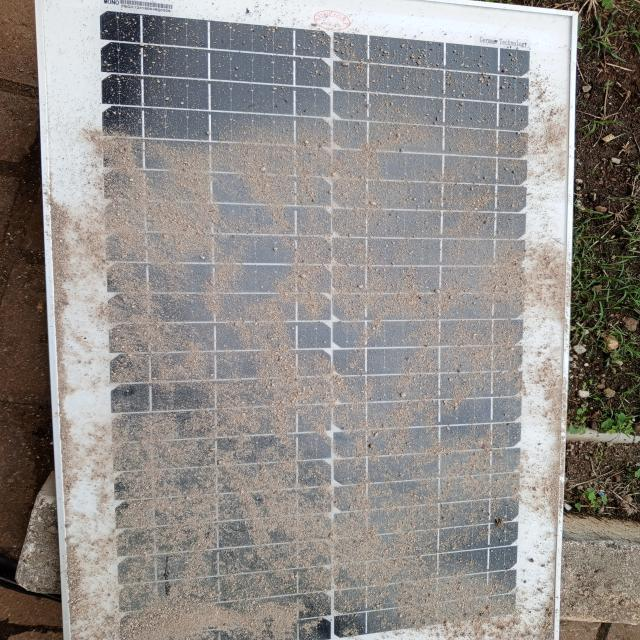Surface Contaminant: (77, 18, 543, 639)
